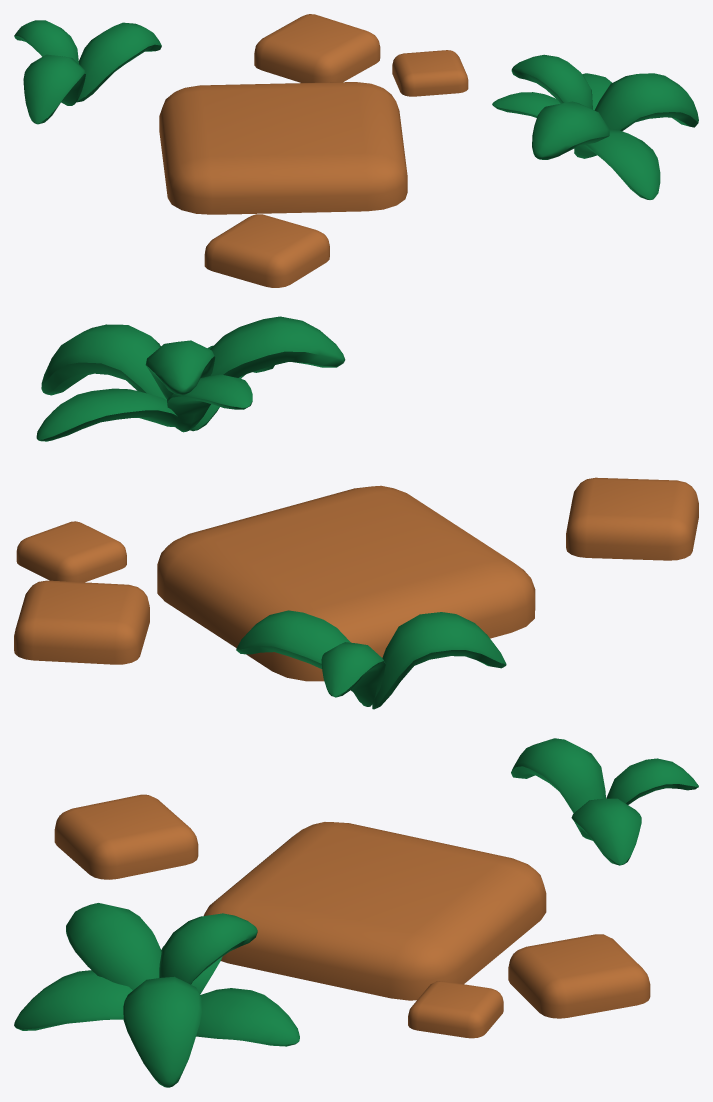
The model's file is detail_forest.obj.
3 renders of one model, top to bottom at view 1: azimuth 30°, elevation 25°; view 2: azimuth 150°, elevation 25°; view 3: azimuth 270°, elevation 25°, orthographic. The views are drawn at different scales.
Visible parts, largest first — view 1: detail_forest_Cube.1556; view 2: detail_forest_Cube.1556; view 3: detail_forest_Cube.1556.
Part boxes in pixels (left/top/right/bottom): detail_forest_Cube.1556: left=14, top=14, right=698, bottom=287; detail_forest_Cube.1556: left=14, top=316, right=698, bottom=709; detail_forest_Cube.1556: left=14, top=738, right=698, bottom=1087.
Size of the model in its own units: 1.7 by 0.3311 by 1.66.
